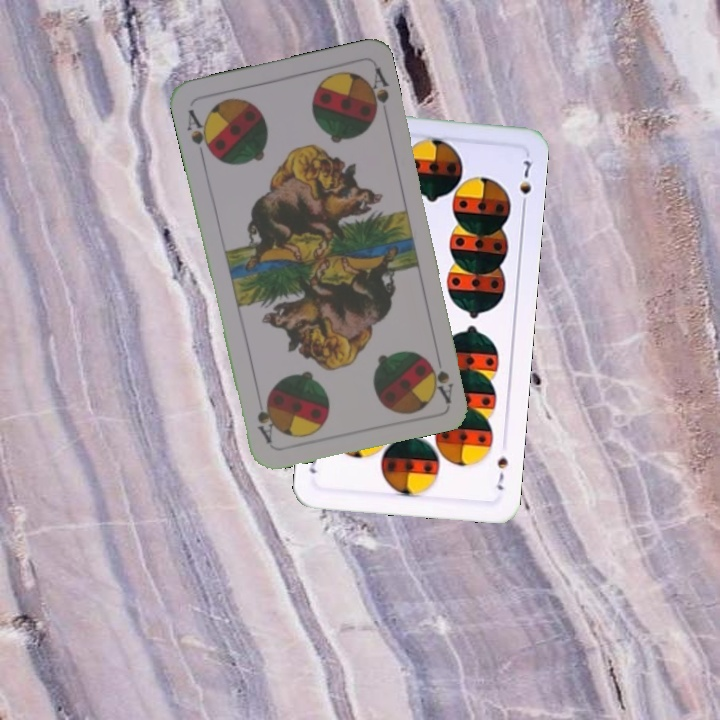S7: (492, 453, 510, 493)
SA: (183, 105, 216, 163), (425, 356, 456, 405)
